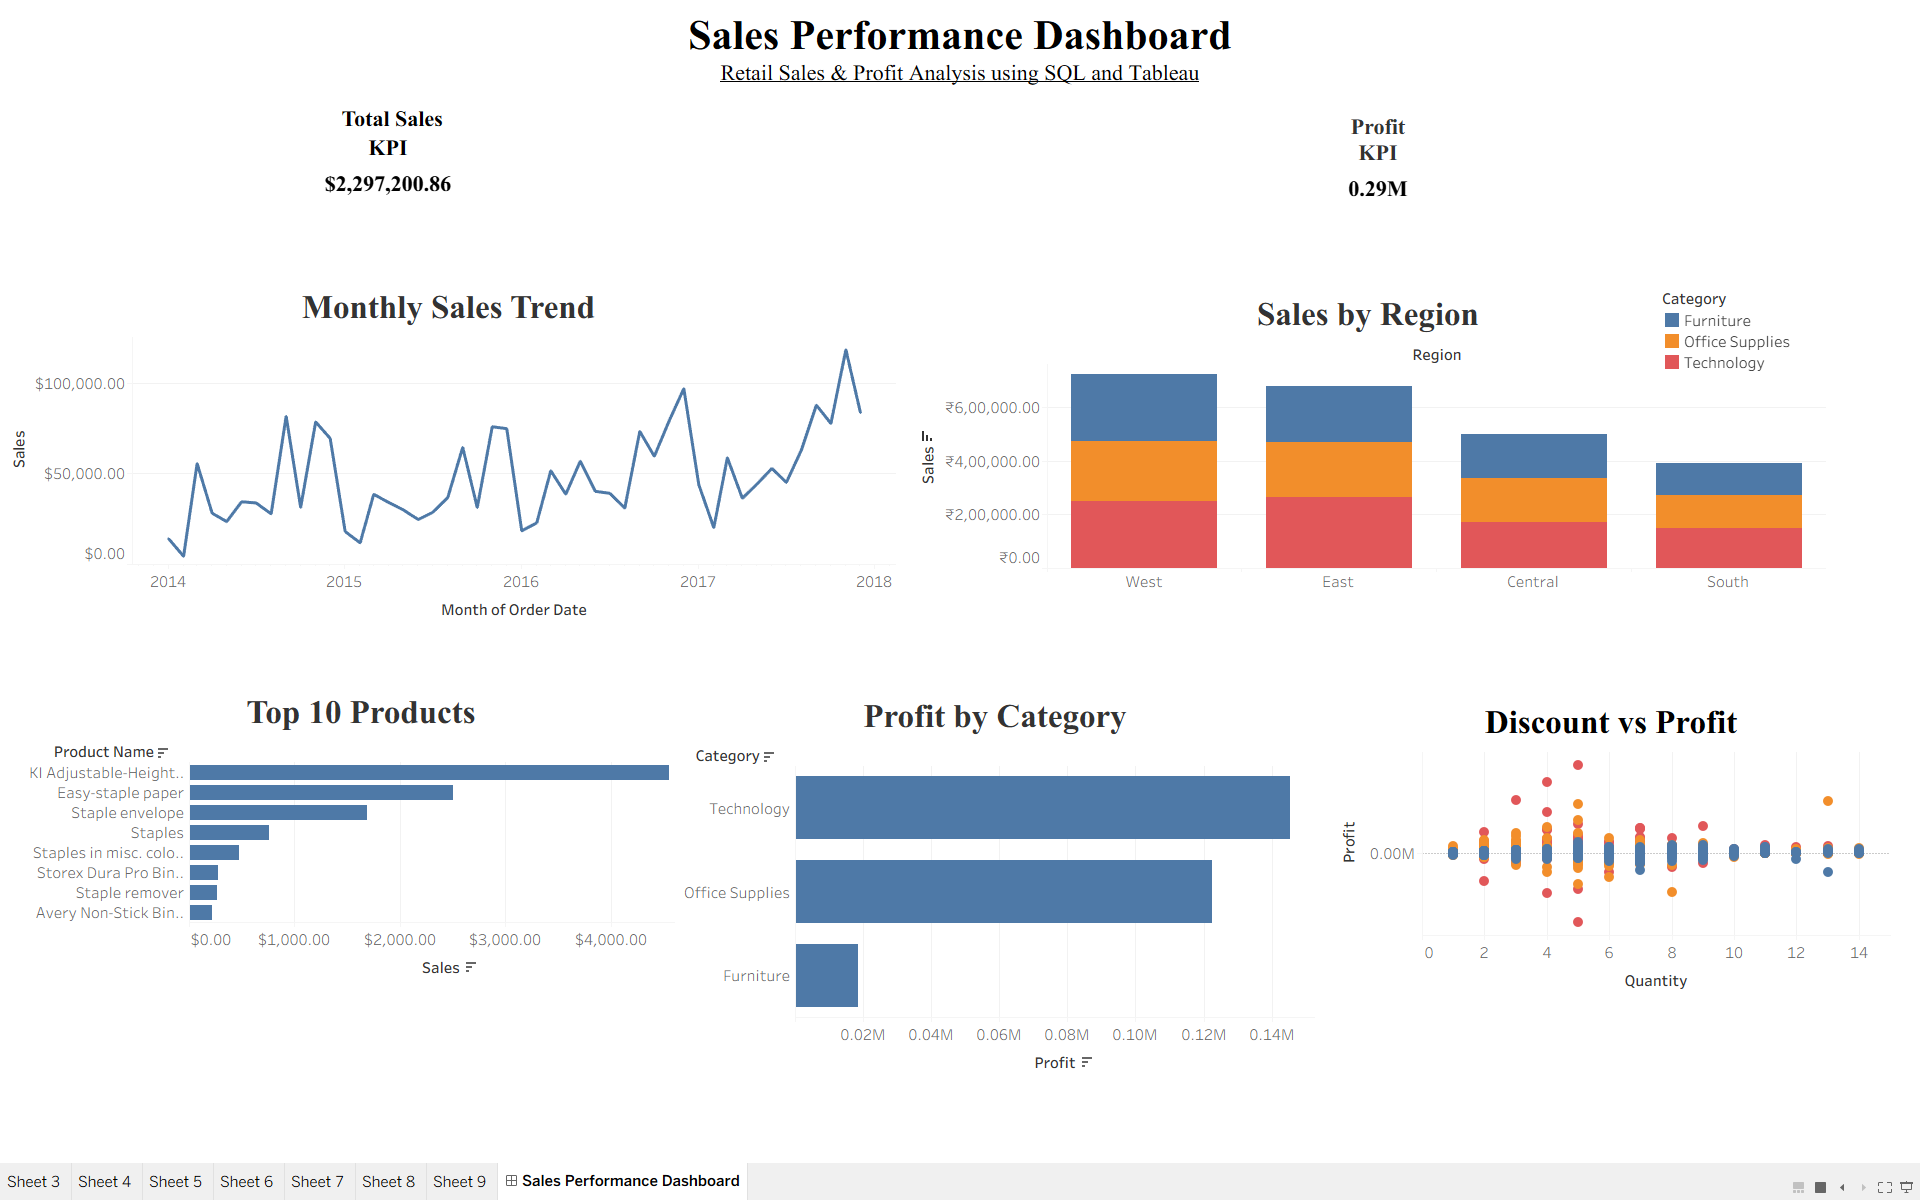

The dashboard page shown, as its layout file describes it:
{"tool":"tableau","page":{"name":"Sales Performance Dashboard","canvas":[1000,1000],"units":"permille","ordinal":0},"visuals":[{"type":"title","box":[4.9,8.7,990.2,89.4]},{"type":"worksheet","title":"Sheet 3","mark":"Automatic","box":[165.8,79.6,123.4,131.9]},{"type":"worksheet","title":"Sheet 4","mark":"Automatic","box":[696.8,94.9,233.9,103.6]},{"type":"worksheet","title":"Sheet 6","mark":"Automatic","rows":["Sales"],"cols":["Order Date"],"box":[0.6,245.4,465.9,294.4]},{"type":"legend","title":"Sheet 5","param":"[federated.0v7uig71kp55k616weli70k0iwse].[none:Category:nk]","box":[865.6,247.6,85.9,92.7]},{"type":"worksheet","title":"Sheet 5","mark":"Automatic","rows":["Sales"],"cols":["Region"],"box":[473.9,250.8,477,258.4]},{"type":"worksheet","title":"Sheet 8","mark":"Bar","rows":["Category"],"cols":["Profit"],"box":[351.8,596.5,333.3,332.6]},{"type":"legend","title":"Sheet 8","param":"[federated.0v7uig71kp55k616weli70k0iwse].[:Measure Names]","box":[613,602,86,69.8]},{"type":"worksheet","title":"Sheet 9","mark":"Circle","rows":["Profit"],"cols":["Quantity"],"box":[693.1,602,291.6,256.3]}]}

Visuals, with their boxes on the dashboard's canvas, which has no fixed pixel size, in thousandths of its width and height (x1, y1, x2, y2). These are canvas units, not pixel positions in the 1920x1200 screenshot, which may show the page scaled, cropped or inside an application window:
title: <region>5, 9, 995, 98</region>
"Sheet 3" worksheet: <region>166, 80, 289, 212</region>
"Sheet 4" worksheet: <region>697, 95, 931, 198</region>
"Sheet 6" worksheet: <region>1, 245, 466, 540</region>
"Sheet 5" legend: <region>866, 248, 952, 340</region>
"Sheet 5" worksheet: <region>474, 251, 951, 509</region>
"Sheet 8" worksheet (Bar marks): <region>352, 596, 685, 929</region>
"Sheet 8" legend: <region>613, 602, 699, 672</region>
"Sheet 9" worksheet (Circle marks): <region>693, 602, 985, 858</region>
